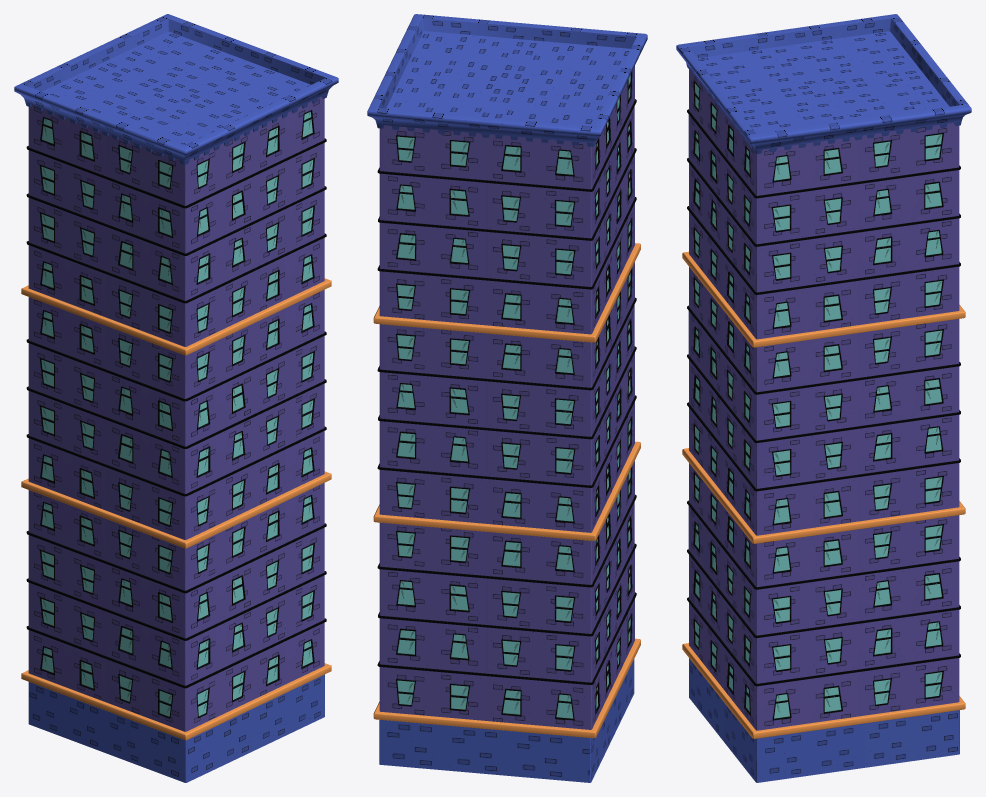
File: 4x4w_Building (31).fbx
The picture shows the model from 3 angles, left to right: view 1: azimuth 30°, elevation 25°; view 2: azimuth 150°, elevation 25°; view 3: azimuth 270°, elevation 25°; orthographic projection. The views are drawn at different scales.
Parts seen in each view (by area): view 1: _2x006__1_, _2x006__2_, _2x006, roof006, ground_floor004, bar004, bar004__2_, bar004__1_; view 2: _2x006__1_, _2x006__2_, _2x006, roof006, ground_floor004, bar004__1_, bar004, bar004__2_; view 3: _2x006__1_, _2x006__2_, _2x006, roof006, ground_floor004, bar004__1_, bar004, bar004__2_.
Part boxes in pixels (x1,y1,x2,y2): _2x006__1_: (26, 290, 326, 539); _2x006__2_: (26, 96, 326, 346); _2x006: (26, 483, 326, 731); roof006: (14, 14, 338, 164); ground_floor004: (28, 674, 324, 782); bar004: (21, 663, 331, 740); bar004__2_: (21, 278, 331, 355); bar004__1_: (21, 471, 331, 548); _2x006__1_: (377, 262, 636, 532); _2x006__2_: (377, 66, 636, 334); _2x006: (377, 461, 636, 729); roof006: (367, 14, 647, 146); ground_floor004: (379, 659, 634, 782); bar004__1_: (373, 441, 640, 541); bar004: (373, 638, 640, 738); bar004__2_: (373, 243, 640, 342); _2x006__1_: (687, 267, 960, 535); _2x006__2_: (687, 68, 960, 339); _2x006: (687, 463, 960, 730); roof006: (676, 14, 971, 153); ground_floor004: (689, 658, 959, 782); bar004__1_: (682, 448, 965, 543); bar004: (682, 643, 965, 738); bar004__2_: (682, 251, 965, 347).
Bounding box in the file's own units: 1372 × 3311 × 1364.
